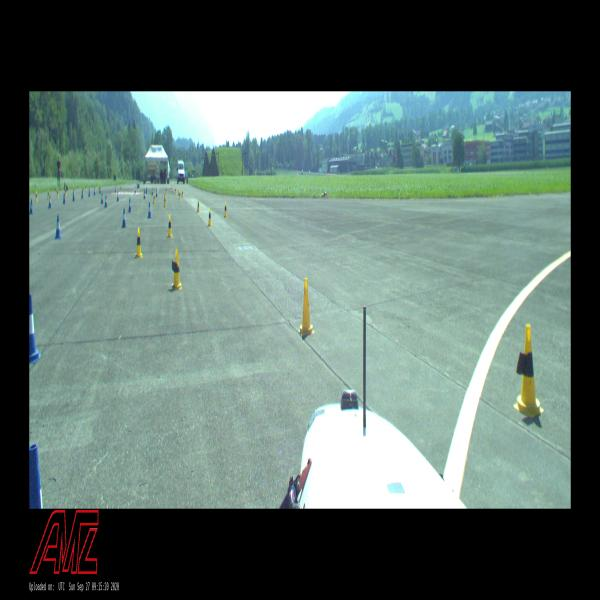blue_cone: (29, 444, 43, 509), (29, 295, 41, 363), (55, 215, 61, 239), (122, 209, 126, 228), (148, 202, 152, 219), (128, 198, 132, 213), (30, 199, 34, 214), (48, 196, 52, 208), (105, 195, 107, 207), (101, 193, 103, 204), (63, 193, 65, 204), (117, 191, 119, 202), (144, 189, 146, 199), (81, 189, 83, 199), (72, 191, 74, 201), (88, 188, 90, 197), (94, 187, 95, 195), (156, 189, 157, 197), (152, 188, 153, 195)
yellow_cone: (514, 325, 544, 417), (299, 278, 314, 336), (172, 249, 182, 290), (135, 228, 143, 258), (168, 214, 172, 238), (208, 208, 212, 226), (224, 201, 228, 218), (197, 199, 200, 213), (153, 193, 156, 204), (35, 190, 37, 202), (164, 196, 166, 207), (57, 188, 59, 198), (179, 191, 181, 200), (65, 187, 67, 196), (165, 186, 167, 194), (48, 189, 49, 200), (182, 190, 183, 198), (164, 192, 165, 200), (178, 188, 179, 196), (175, 187, 176, 194), (120, 186, 121, 193), (137, 185, 138, 192), (155, 186, 156, 193)
